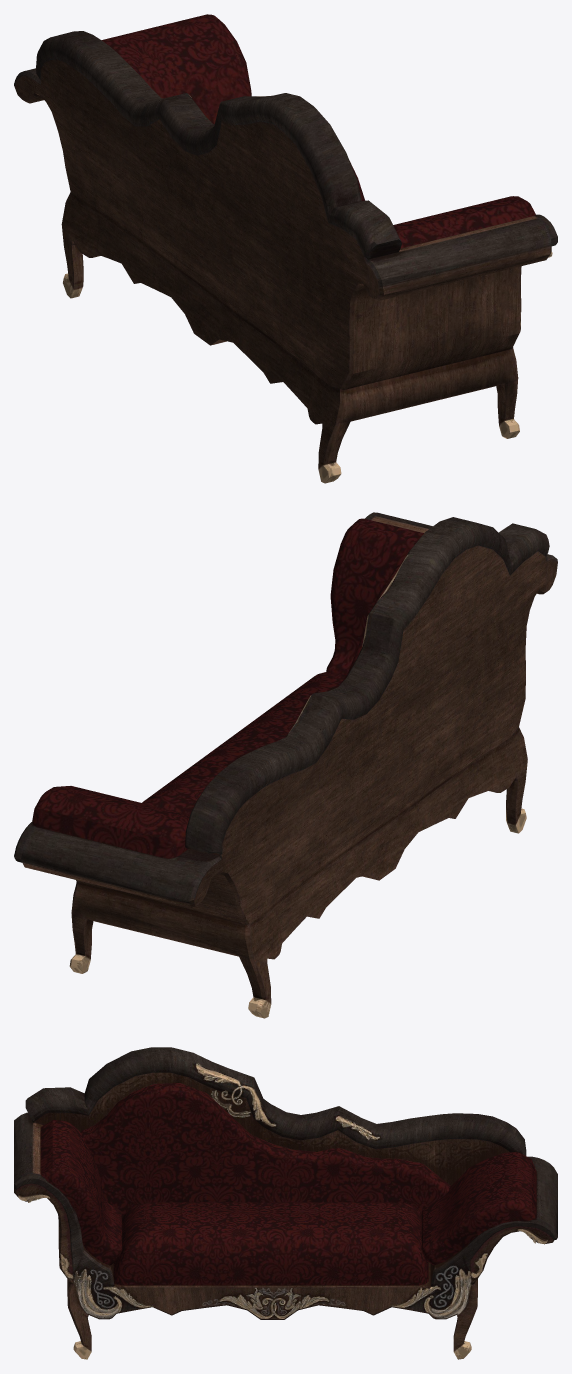
The model's file is victorian_lounge_sofa_optimized.glb.
3 renders of one model, top to bottom at view 1: azimuth 30°, elevation 25°; view 2: azimuth 150°, elevation 25°; view 3: azimuth 270°, elevation 25°, orthographic. The views are drawn at different scales.
Visible parts, largest first — view 1: defaultMaterial; view 2: defaultMaterial; view 3: defaultMaterial.
Boxes of the visible parts, x1,y1,x2,y2 form: defaultMaterial: (14, 14, 557, 483); defaultMaterial: (14, 512, 557, 1018); defaultMaterial: (14, 1047, 557, 1359).
Bounding box in the file's own units: 0.5995 × 1.01 × 2.
Materials: 1 (1 with a texture image).
